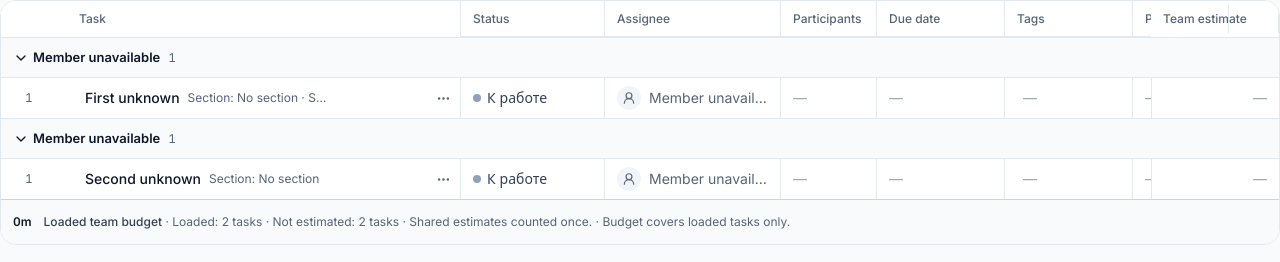
Test case: TaskTable assignee grouping › distinguishes unavailable member groups and honestly describes unloaded parents
Check: the row "First unknown" shows "Subtask (parent not loaded)", box x1=188 y1=90 x2=466 y2=105
Click the 1st button "Member unavailable".
click(87, 58)  # box x1=13 y1=42 x2=160 y2=74
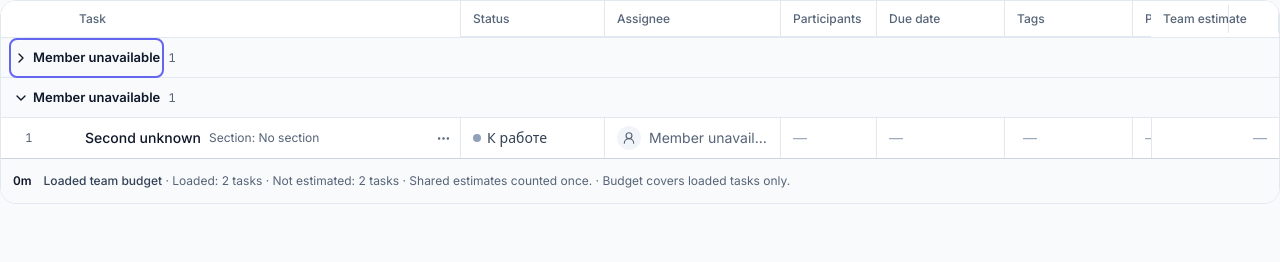
Check: the button "Second unknown" is shown, box x1=81 y1=124 x2=205 y2=152
Check: the button "First unknown" is gone
